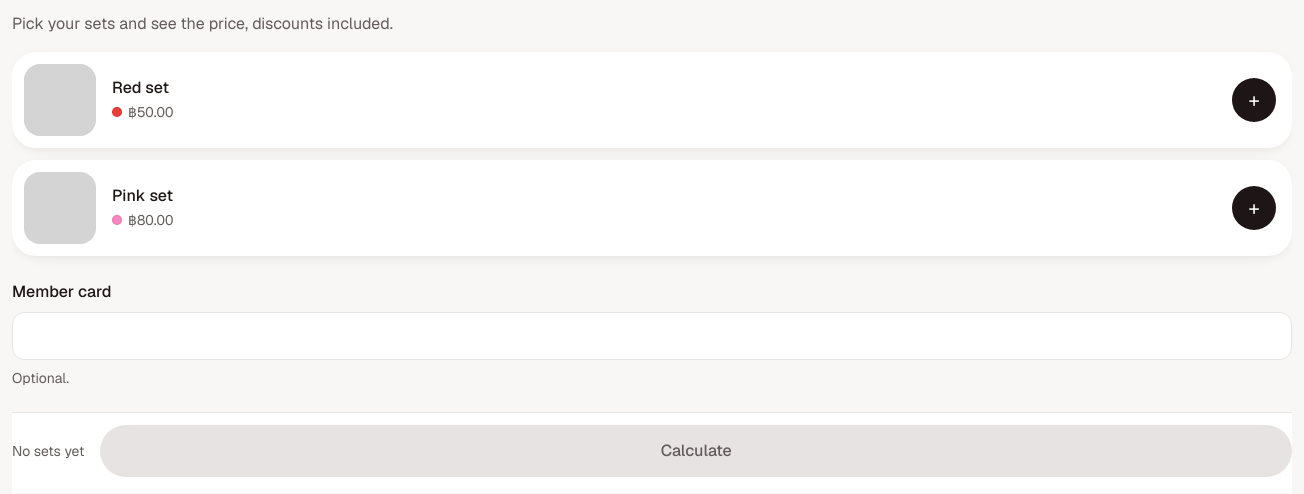
Test case: Calculator › disables Calculate until something is in the cart
The width and height of the screenshot is (1304, 494).
Check: the button "Calculate" is disabled, box [100, 425, 1292, 477]
Click the button named "Increase Pink set": (1254,208) [1232, 186, 1276, 230]
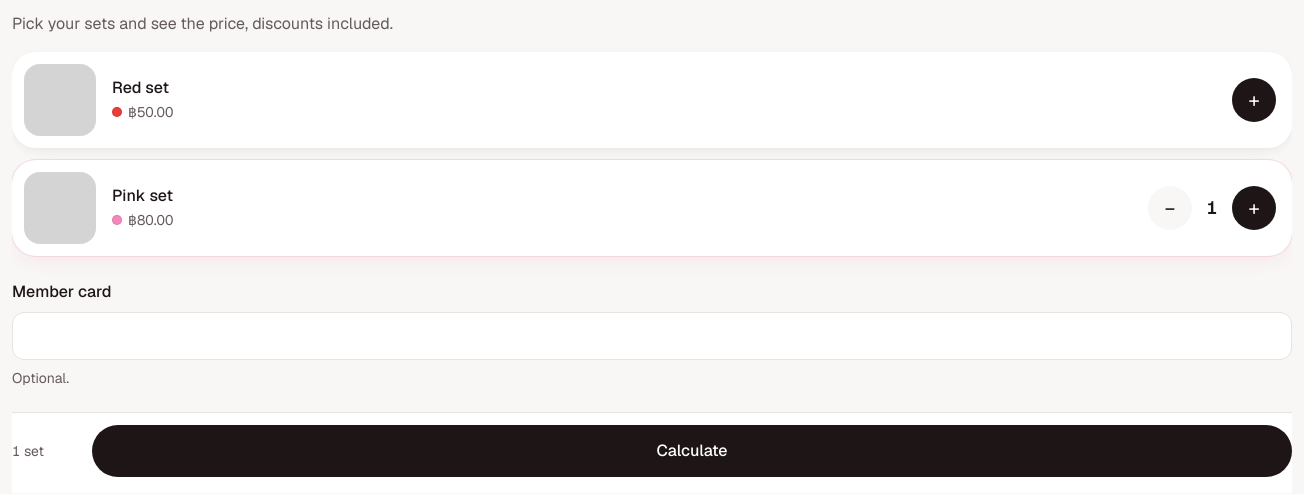
Check: the button "Calculate" is enabled, box [92, 425, 1292, 477]
